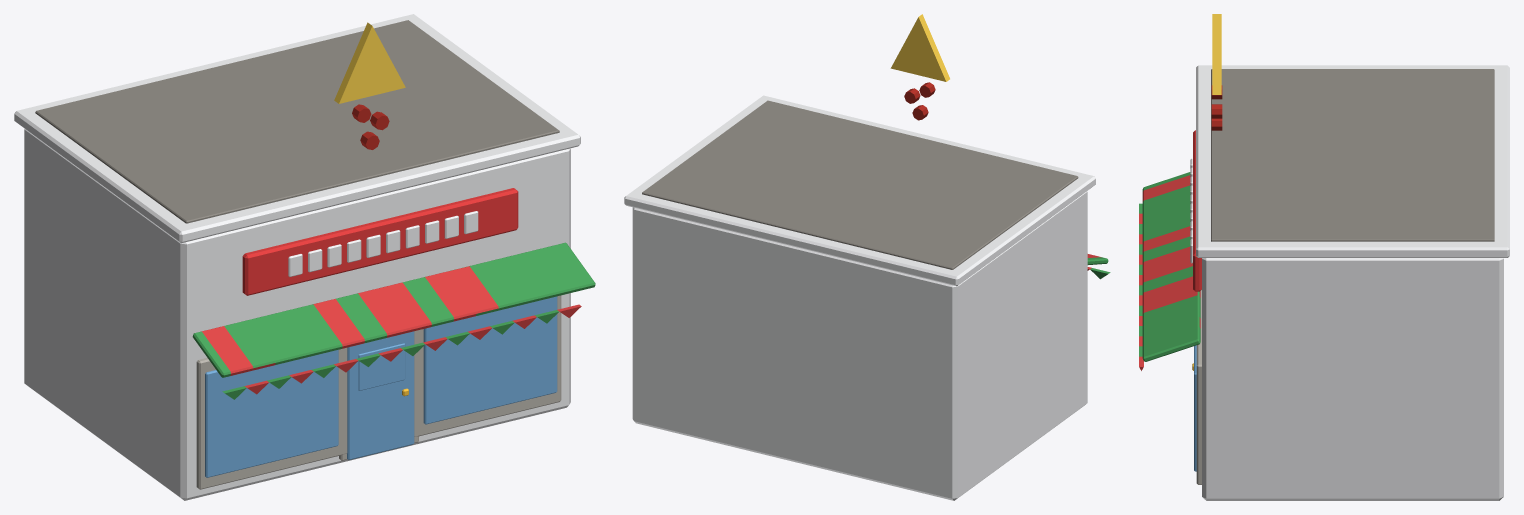
File: PizzaShop.fbx
3 renders of one model, left to right at view 1: azimuth 30°, elevation 25°; view 2: azimuth 150°, elevation 25°; view 3: azimuth 270°, elevation 25°, orthographic. The views are drawn at different scales.
Parts seen in each view (by area): view 1: PizzaShop; view 2: PizzaShop; view 3: PizzaShop.
Boxes of the visible parts, x1,y1,x2,y2 form: PizzaShop: (14, 14, 595, 500); PizzaShop: (624, 14, 1110, 500); PizzaShop: (1139, 14, 1509, 500).
Bounding box in the file's own units: 14.4 × 14.6 × 12.28.
1 material, 1 textured.
